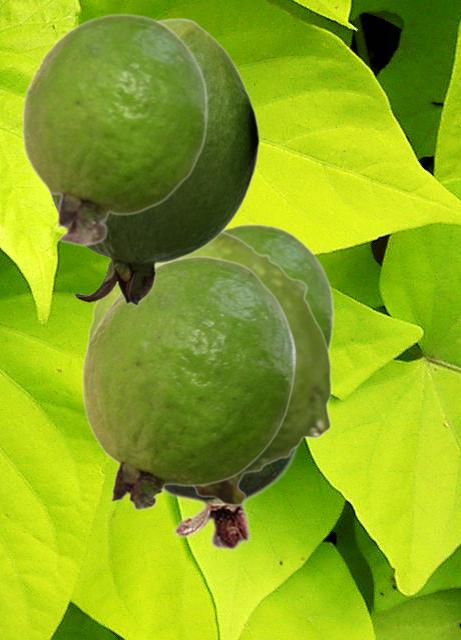guava: (85, 231, 331, 505), (48, 18, 259, 305), (81, 255, 295, 510), (21, 12, 208, 246), (163, 447, 301, 551), (226, 222, 334, 351)
